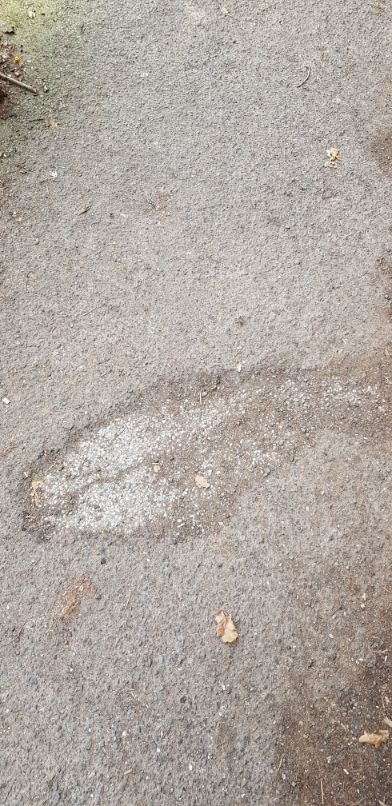pothole: (17, 359, 392, 546)
